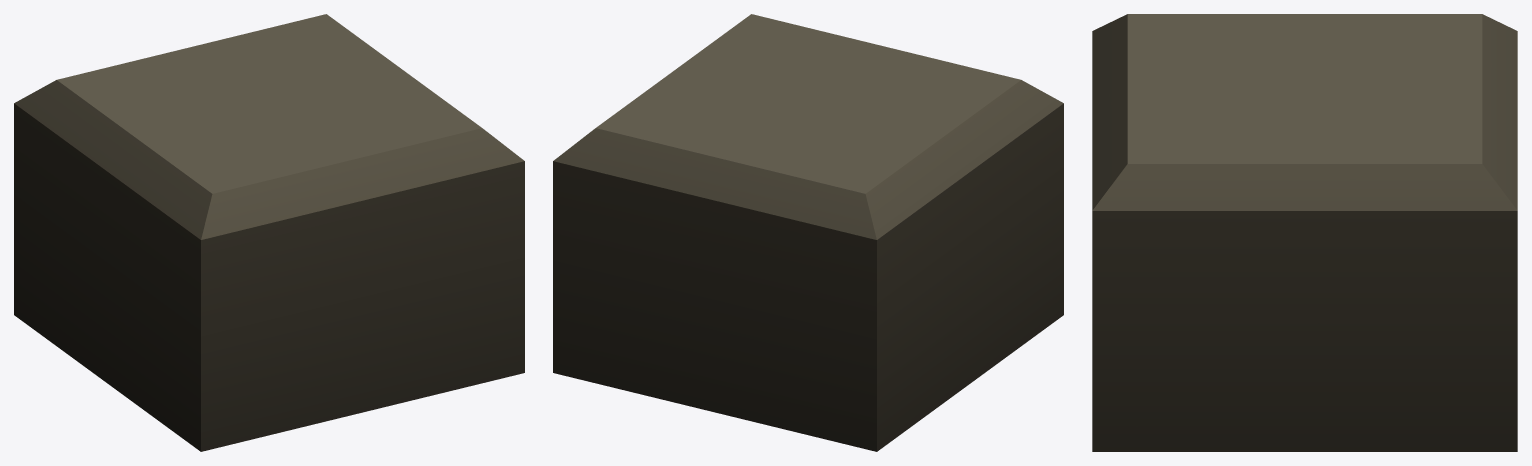
Rendered from steel-furnace.glb.
3 views of the same model, side by side, from view 1: azimuth 30°, elevation 25°; view 2: azimuth 150°, elevation 25°; view 3: azimuth 270°, elevation 25° (orthographic). The views are drawn at different scales.
Parts seen in each view (by area): view 1: steel-furnace; view 2: steel-furnace; view 3: steel-furnace.
Boxes of the visible parts, bbox=[...] form: steel-furnace: bbox=[14, 14, 524, 451]; steel-furnace: bbox=[553, 14, 1063, 451]; steel-furnace: bbox=[1092, 14, 1517, 451].
Bounding box in the file's own units: 0.24 × 0.17 × 0.24.
